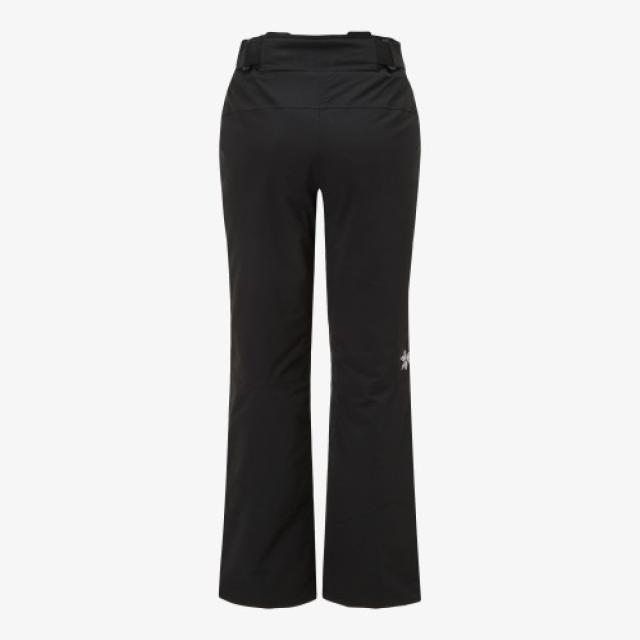pants: (213, 26, 427, 611)
